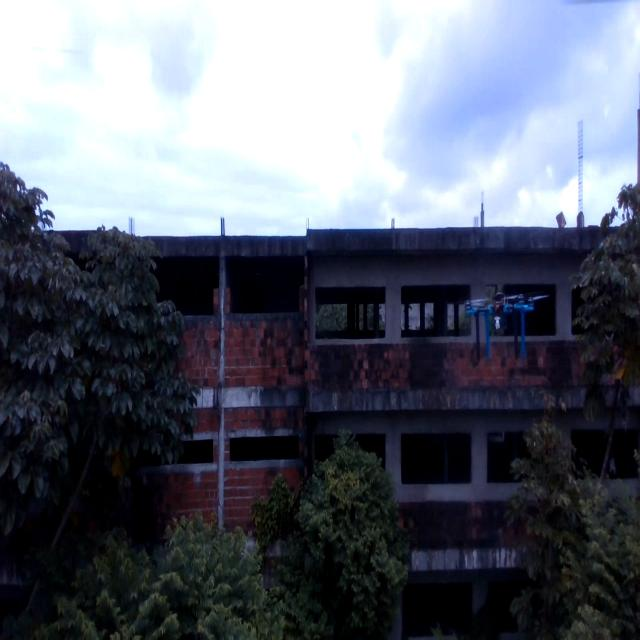-uav-: (457, 275, 554, 366)
